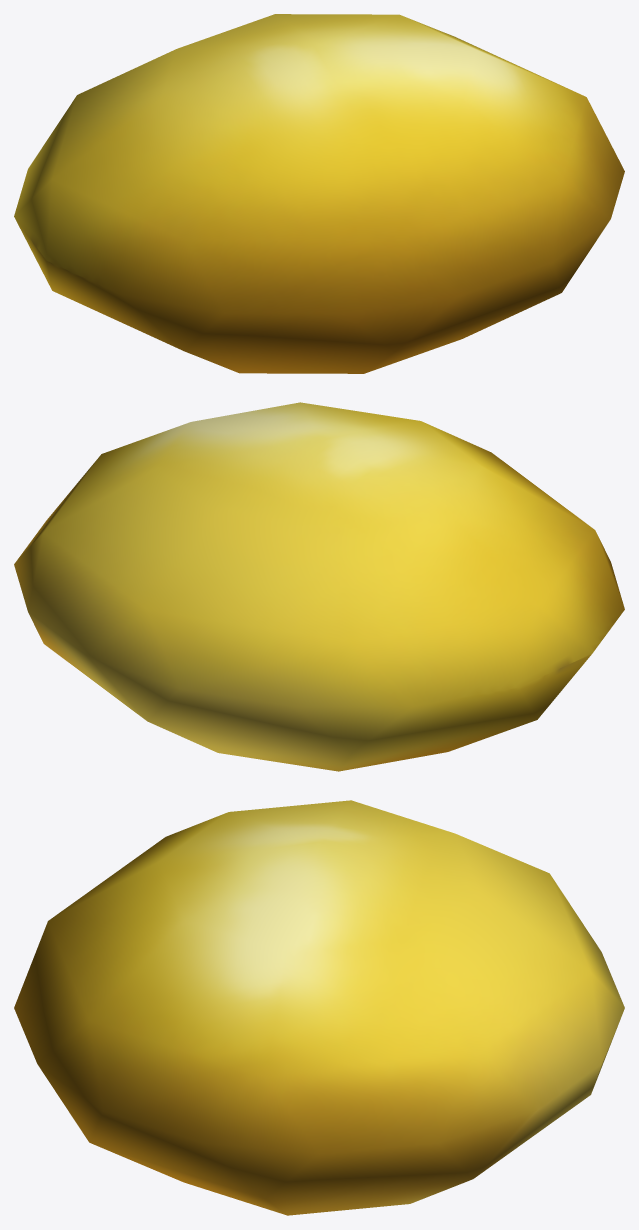
File: candypillyellow.fbx
3 views of the same model, one above another, from view 1: azimuth 30°, elevation 25°; view 2: azimuth 150°, elevation 25°; view 3: azimuth 270°, elevation 25° (orthographic). The views are drawn at different scales.
Visible parts, largest first — view 1: candypillyellow; view 2: candypillyellow; view 3: candypillyellow.
Part boxes in pixels (x1,y1,x2,y2): candypillyellow: [14, 14, 624, 373]; candypillyellow: [14, 402, 624, 771]; candypillyellow: [14, 800, 624, 1215].
Size of the model in its own units: 4.64 by 2.42 by 4.1.
